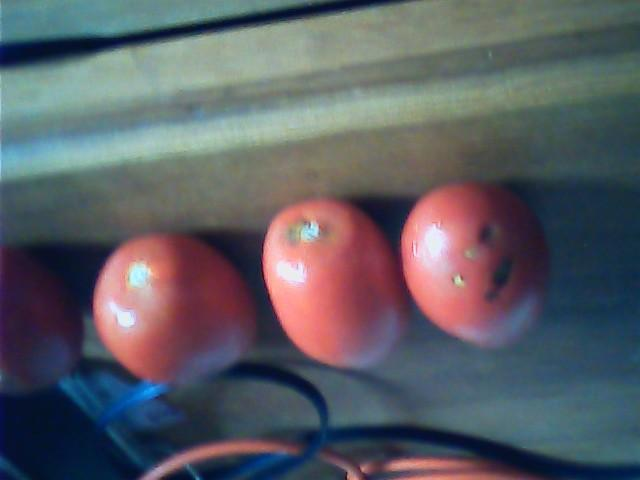defectuoso: (262, 196, 400, 370), (403, 183, 545, 350)
maduro: (91, 228, 253, 385)
